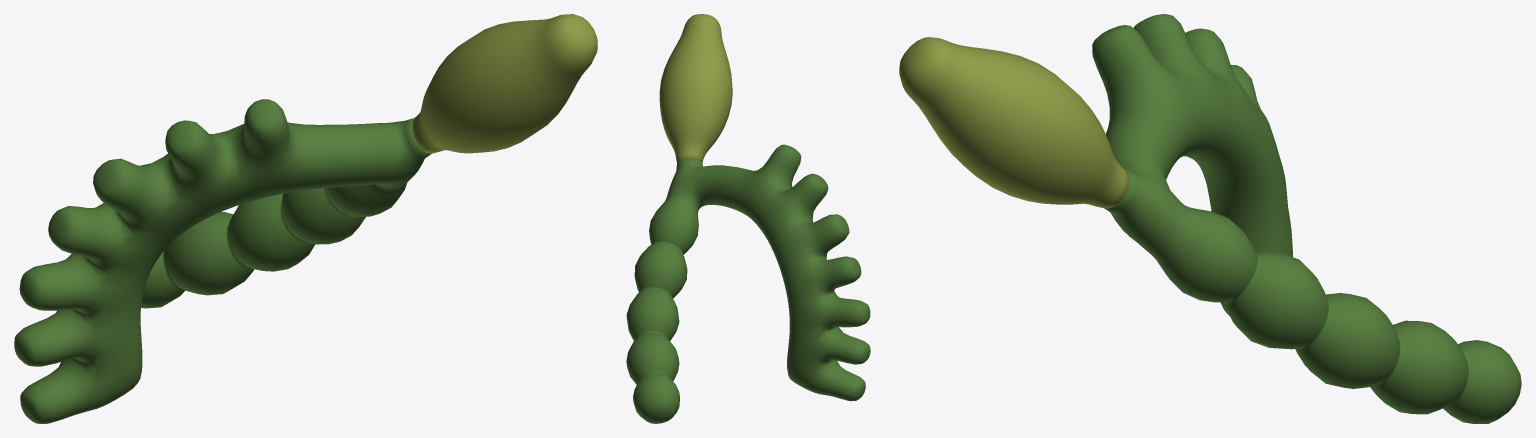
File: spore_bit_two.fbx
3 views of the same model, side by side, from view 1: azimuth 30°, elevation 25°; view 2: azimuth 150°, elevation 25°; view 3: azimuth 270°, elevation 25° (orthographic). The views are drawn at different scales.
Visible parts, largest first — view 1: spore bit two; view 2: spore bit two; view 3: spore bit two.
Boxes of the visible parts, box(x1,y1,x2,y2) form: spore bit two: box(14, 14, 597, 423); spore bit two: box(626, 14, 870, 423); spore bit two: box(899, 14, 1521, 423).
Size of the model in its own units: 617 by 582 by 693.
